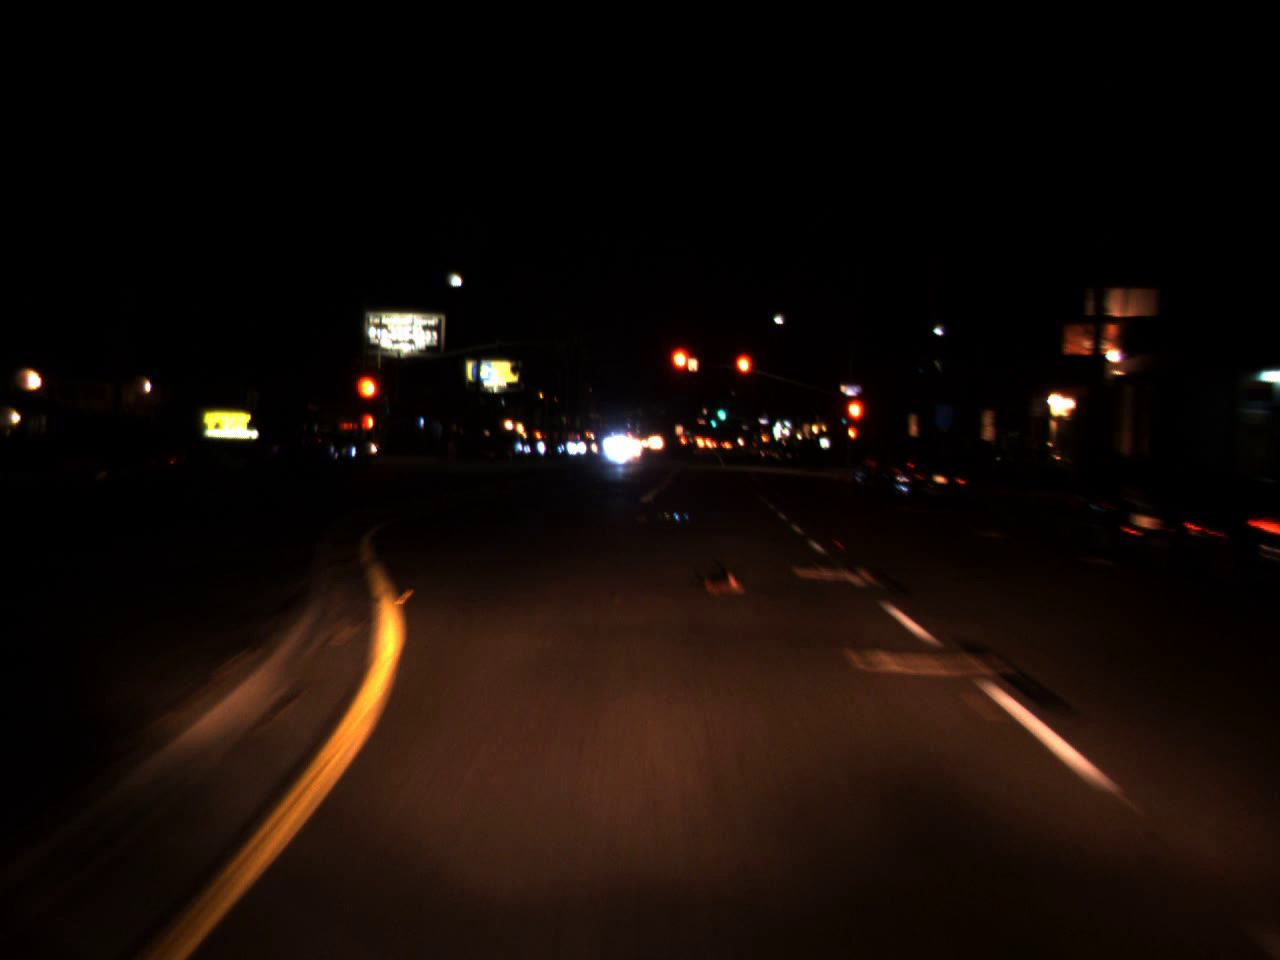go: (714, 397, 726, 424), (710, 413, 717, 428)
stop: (353, 373, 381, 427), (667, 345, 695, 396), (733, 352, 754, 395), (844, 398, 863, 441)
